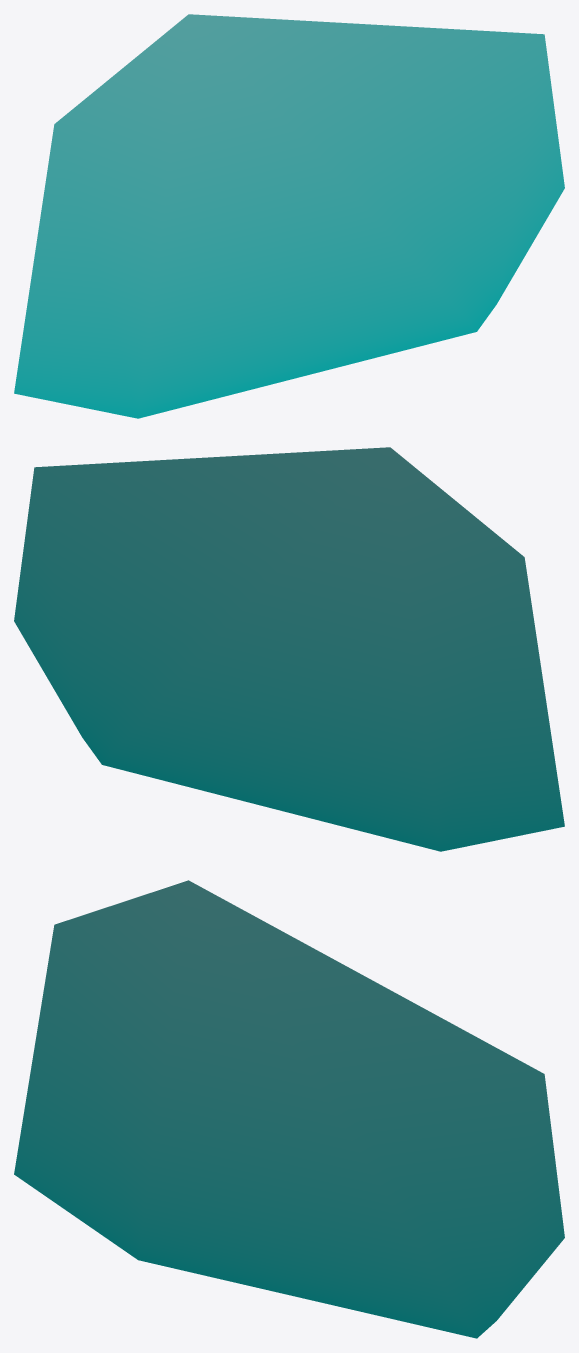
Rendered from Sea_Thrift_vkbgaihha_Mid_vkbgaihha_VarC_LOD3.fbx.
The picture shows the model from 3 angles, top to bottom: view 1: azimuth 30°, elevation 25°; view 2: azimuth 150°, elevation 25°; view 3: azimuth 330°, elevation 25°; orthographic projection.
Parts seen in each view (by area): view 1: _x22i_VarC_LOD4; view 2: _x22i_VarC_LOD4; view 3: _x22i_VarC_LOD4.
Boxes of the visible parts, x1,y1,x2,y2 form: _x22i_VarC_LOD4: [14, 14, 564, 418]; _x22i_VarC_LOD4: [14, 447, 564, 851]; _x22i_VarC_LOD4: [14, 880, 564, 1338].
Bounding box in the file's own units: 31.5 × 21.42 × 0.
